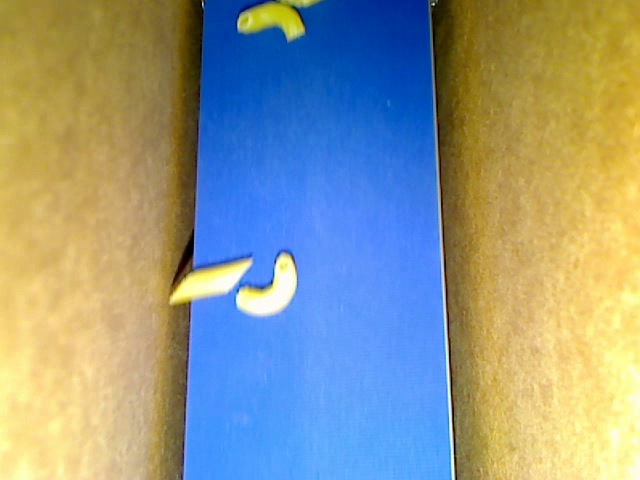elbow: (235, 250, 299, 318), (237, 2, 305, 42)
penne: (169, 256, 252, 305)
